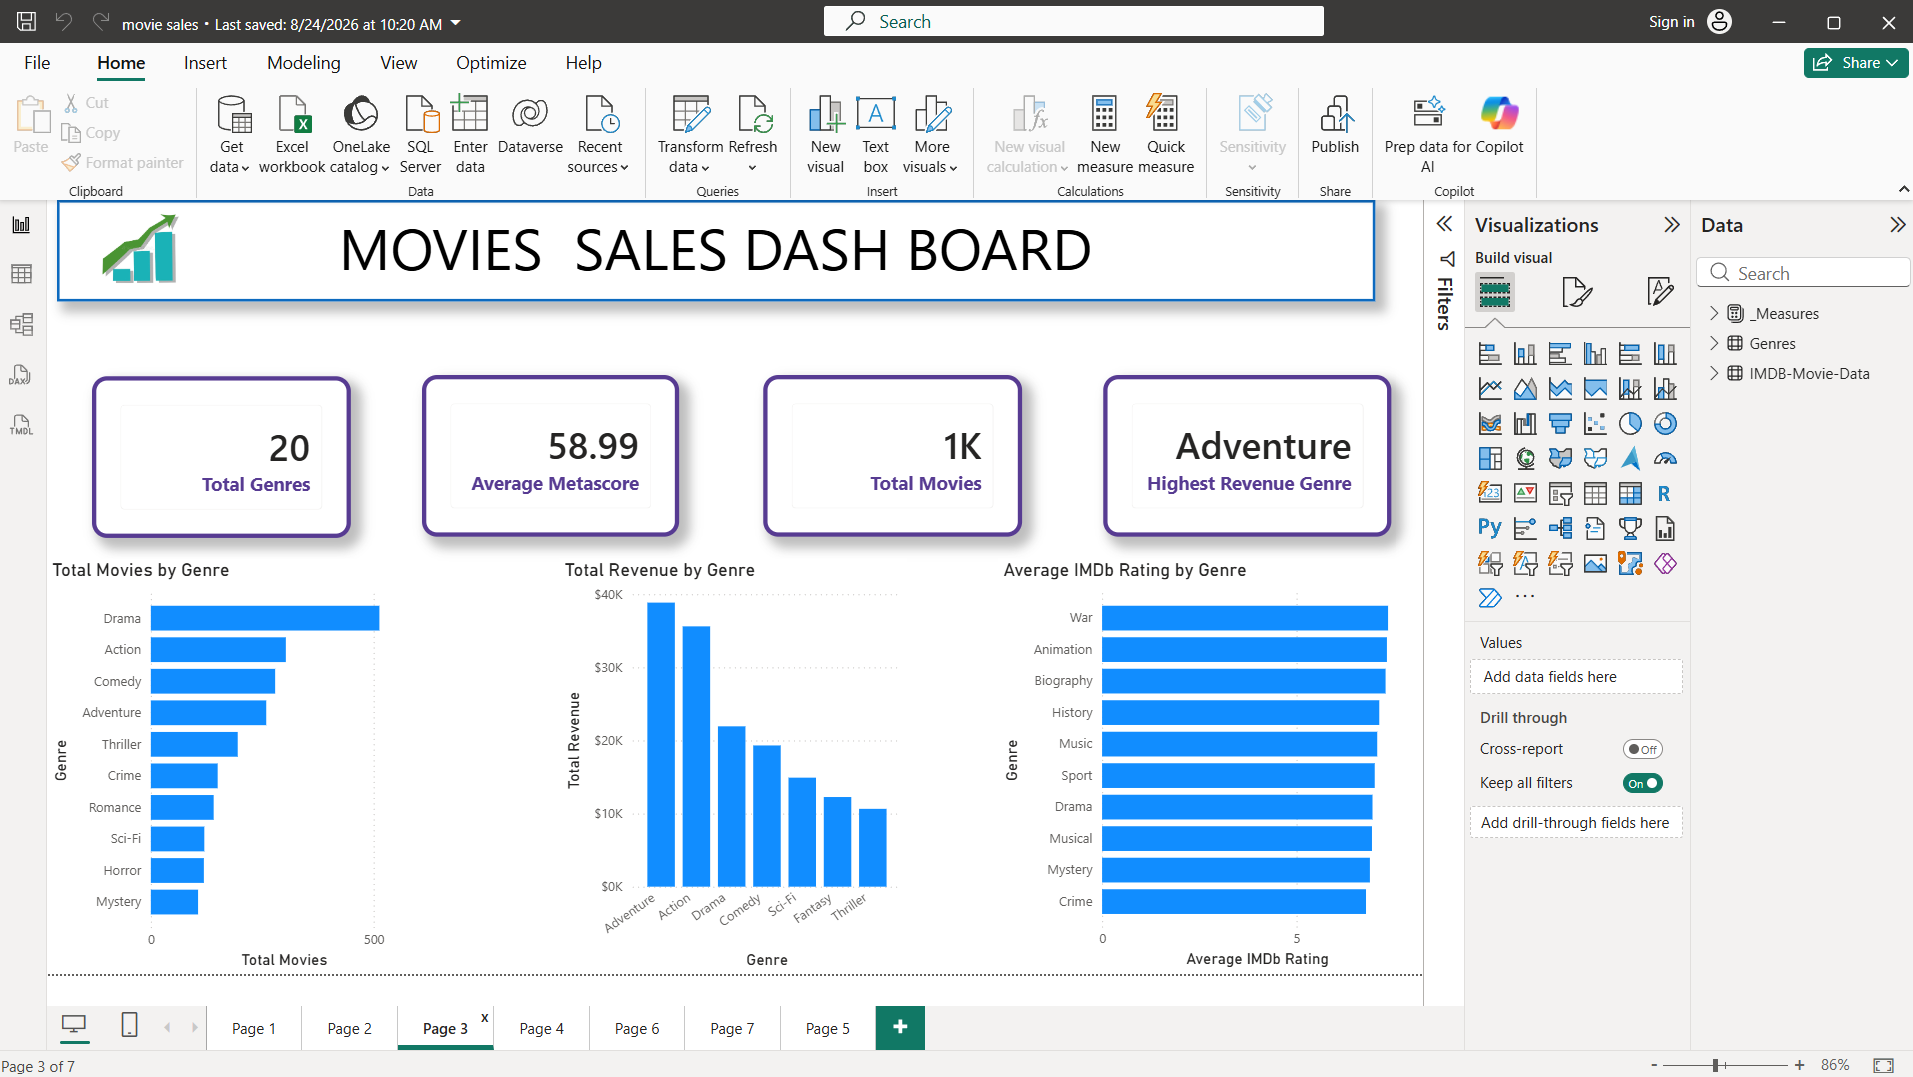

The page's visual inventory and layout, read from the dashboard file:
{"tool":"powerbi","page":{"name":"Page 3","canvas":[1280,720],"ordinal":2},"visuals":[{"type":"cardVisual","fields":{"Data":["_Measures.Total Genres"]},"box":[41.9,164,240.9,150],"z":0},{"type":"cardVisual","fields":{"Data":["_Measures.Average Metascore"]},"box":[348.8,162.8,239.5,150],"z":1000},{"type":"cardVisual","fields":{"Data":["_Measures.Highest Revenue Genre"]},"box":[982.6,162.8,268.4,150],"z":2000},{"type":"cardVisual","fields":{"Data":["_Measures.Total Movies"]},"box":[666.3,162.8,240.9,150],"z":3000},{"type":"clusteredBarChart","fields":{"Category":["Genres.Genre"],"Y":["_Measures.Total Movies"]},"box":[0,333.7,360.5,386],"z":4000},{"type":"clusteredColumnChart","fields":{"Category":["Genres.Genre"],"Y":["_Measures.Total Revenue"]},"box":[476.7,333.7,323.3,386],"z":5000},{"type":"clusteredBarChart","fields":{"Category":["Genres.Genre"],"Y":["_Measures.Average IMDb Rating"]},"box":[884.9,333.7,395.2,385.6],"z":6000},{"type":"textbox","box":[9.3,0,1226.7,94.2],"z":7000},{"type":"image","box":[0,3.5,169.8,80.2],"z":8000}]}

Visuals, with their boxes on the page's 1280x720 design canvas (x1, y1, x2, y2). These are canvas units, not pixel positions in the 1913x1077 screenshot, which may show the page scaled, cropped or inside an application window:
cardVisual - _Measures.Total Genres: 42:164:283:314
cardVisual - _Measures.Average Metascore: 349:163:588:313
cardVisual - _Measures.Highest Revenue Genre: 983:163:1251:313
cardVisual - _Measures.Total Movies: 666:163:907:313
clusteredBarChart - Genres.Genre x _Measures.Total Movies: 0:334:360:720
clusteredColumnChart - Genres.Genre x _Measures.Total Revenue: 477:334:800:720
clusteredBarChart - Genres.Genre x _Measures.Average IMDb Rating: 885:334:1280:719
textbox: 9:0:1236:94
image: 0:4:170:84
